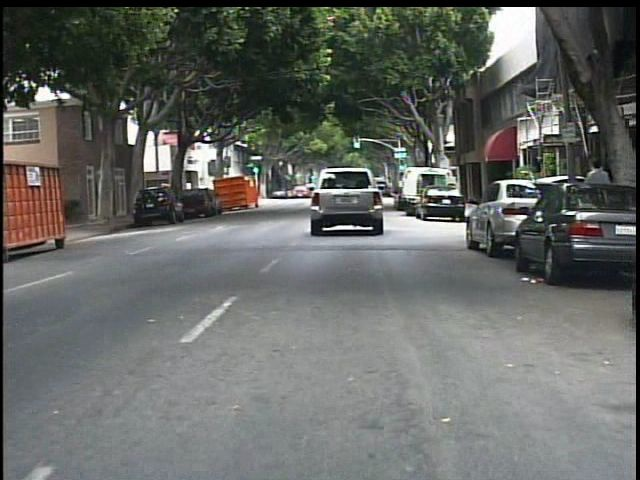person: (580, 155, 614, 241)
